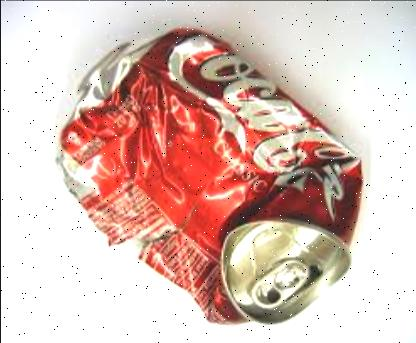Can: (36, 18, 364, 326)
